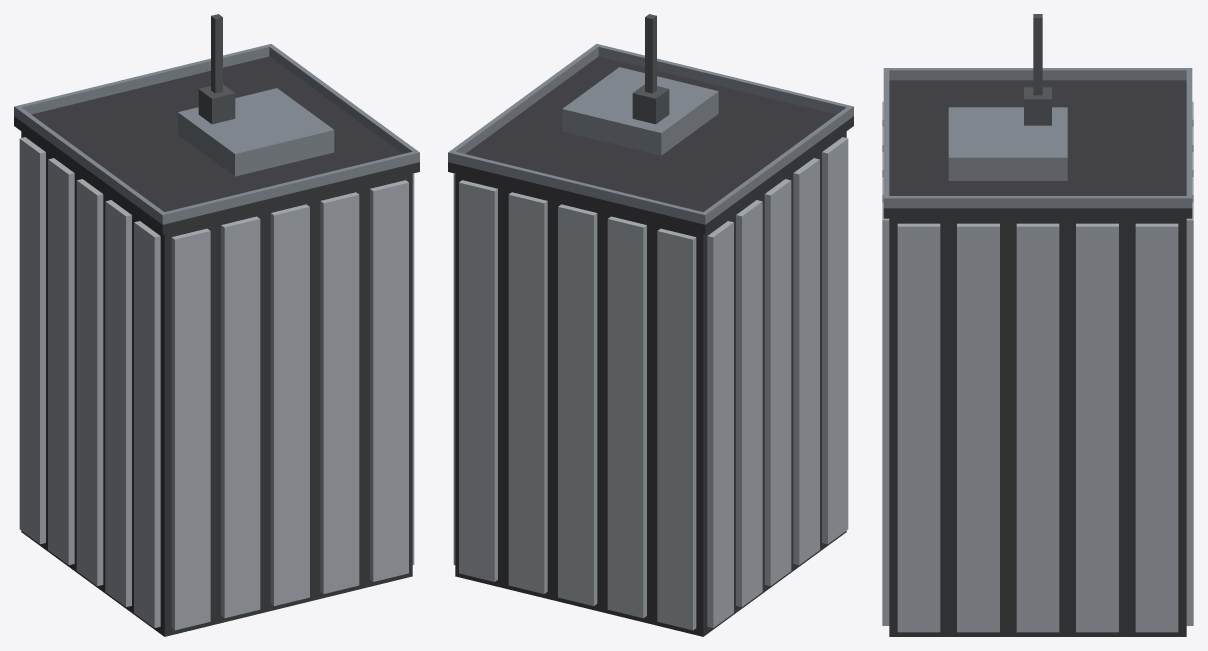
The model's file is talo8.fbx.
The picture shows the model from 3 angles, left to right: view 1: azimuth 30°, elevation 25°; view 2: azimuth 150°, elevation 25°; view 3: azimuth 270°, elevation 25°; orthographic projection. The views are drawn at different scales.
Parts seen in each view (by area): view 1: talo8; view 2: talo8; view 3: talo8.
Boxes of the visible parts, x1,y1,x2,y2 form: talo8: (14, 14, 419, 636); talo8: (448, 14, 853, 636); talo8: (882, 14, 1193, 636).
Bounding box in the file's own units: 209 × 414 × 209.
